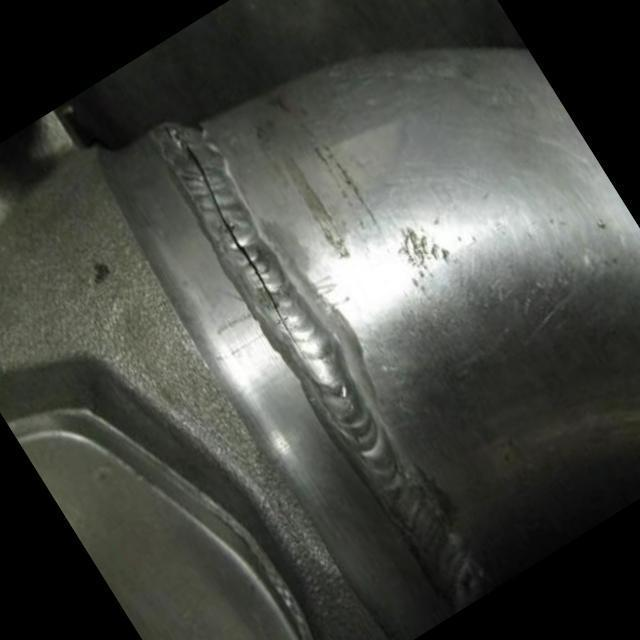defect: (171, 126, 311, 367)
